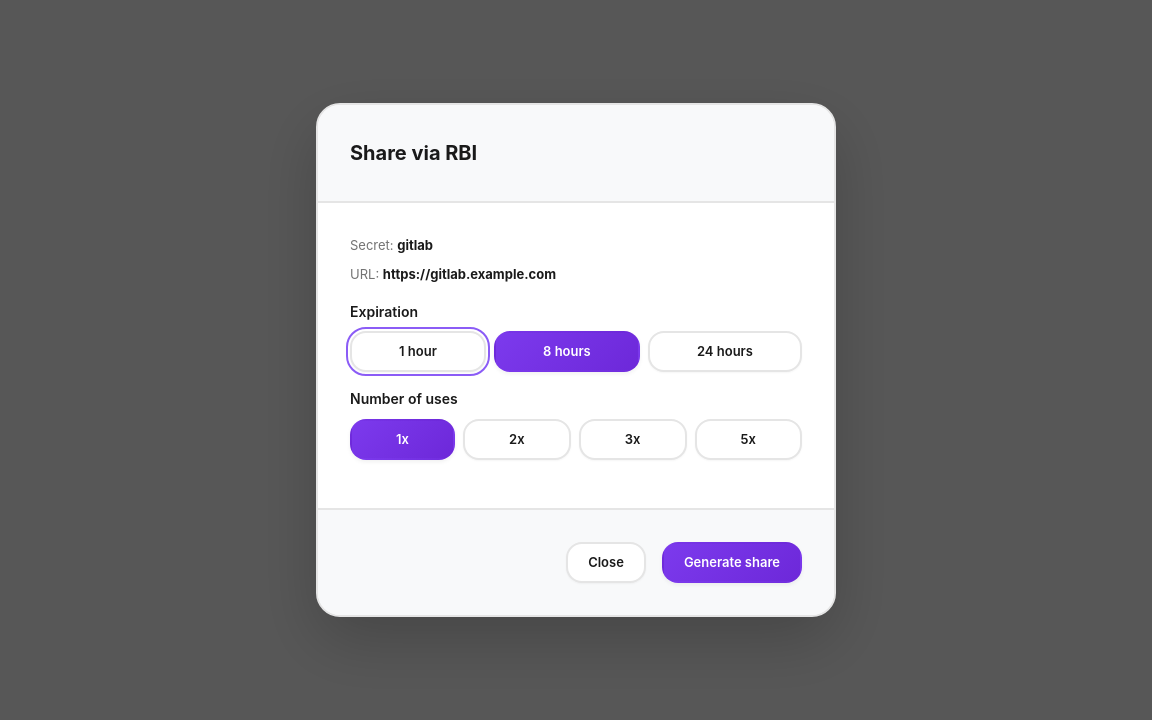
DOCS-17 — shareId contrôlé à l'émission › shareId hors format (« / », « = ») : refus explicite, aucun ID affiché, wrapping token consommé
Click the button "Generate share": click(732, 562) [662,542,802,583]
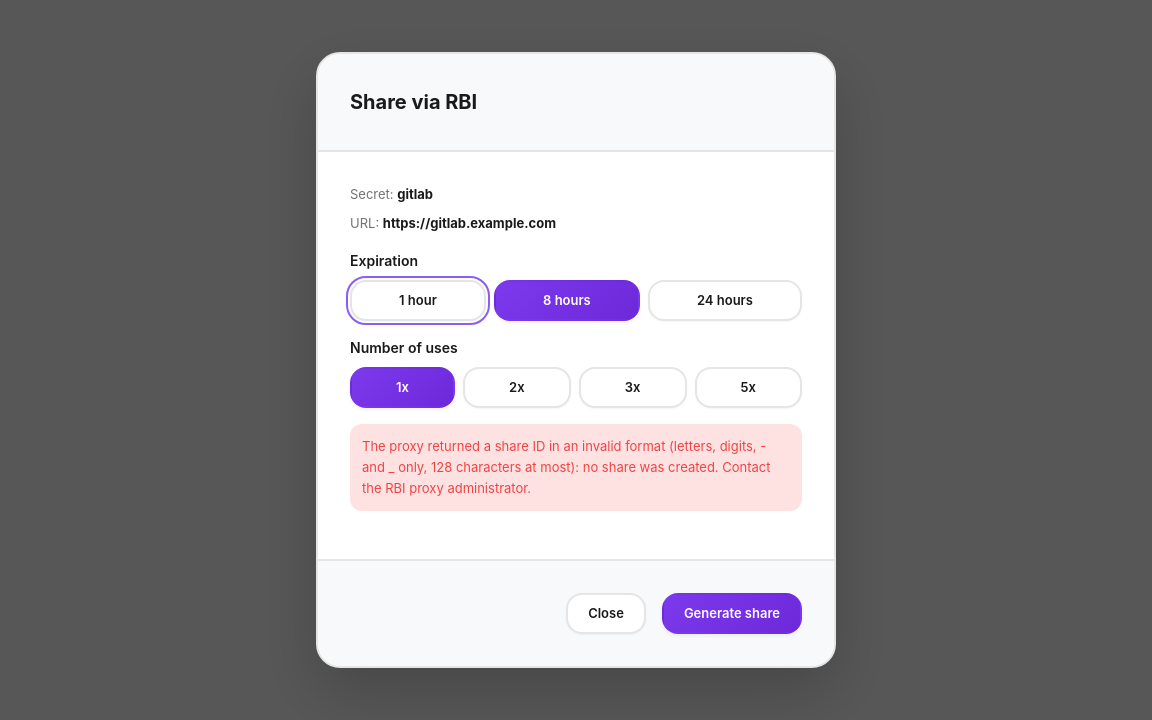
Now the message shows "The proxy returned a share ID in an invalid format (letters, digits, - and _ only, 128 characters at most): no share was created. Contact the RBI proxy administ", box [362,438,770,496]
